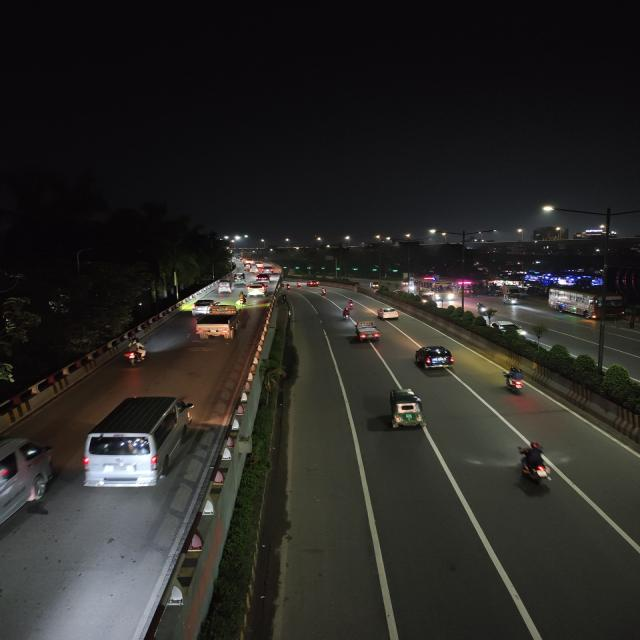bus: (550, 286, 625, 322), (418, 281, 457, 301), (458, 282, 475, 298)
car: (78, 392, 196, 492), (0, 433, 55, 539), (191, 312, 242, 340), (412, 344, 458, 375), (191, 297, 220, 314), (376, 304, 400, 322), (246, 282, 268, 296), (255, 272, 270, 281), (234, 274, 245, 284), (305, 280, 319, 287), (261, 267, 275, 274)
cng: (376, 387, 432, 432), (354, 322, 384, 342), (217, 280, 234, 294), (504, 294, 520, 304), (368, 282, 381, 292)
motorcycle: (512, 440, 556, 489), (498, 364, 529, 396), (121, 339, 151, 367), (339, 306, 354, 320), (237, 292, 249, 307), (343, 297, 357, 309), (317, 287, 330, 297)
pickup_van: (191, 304, 242, 341)
truck: (503, 284, 520, 298)
